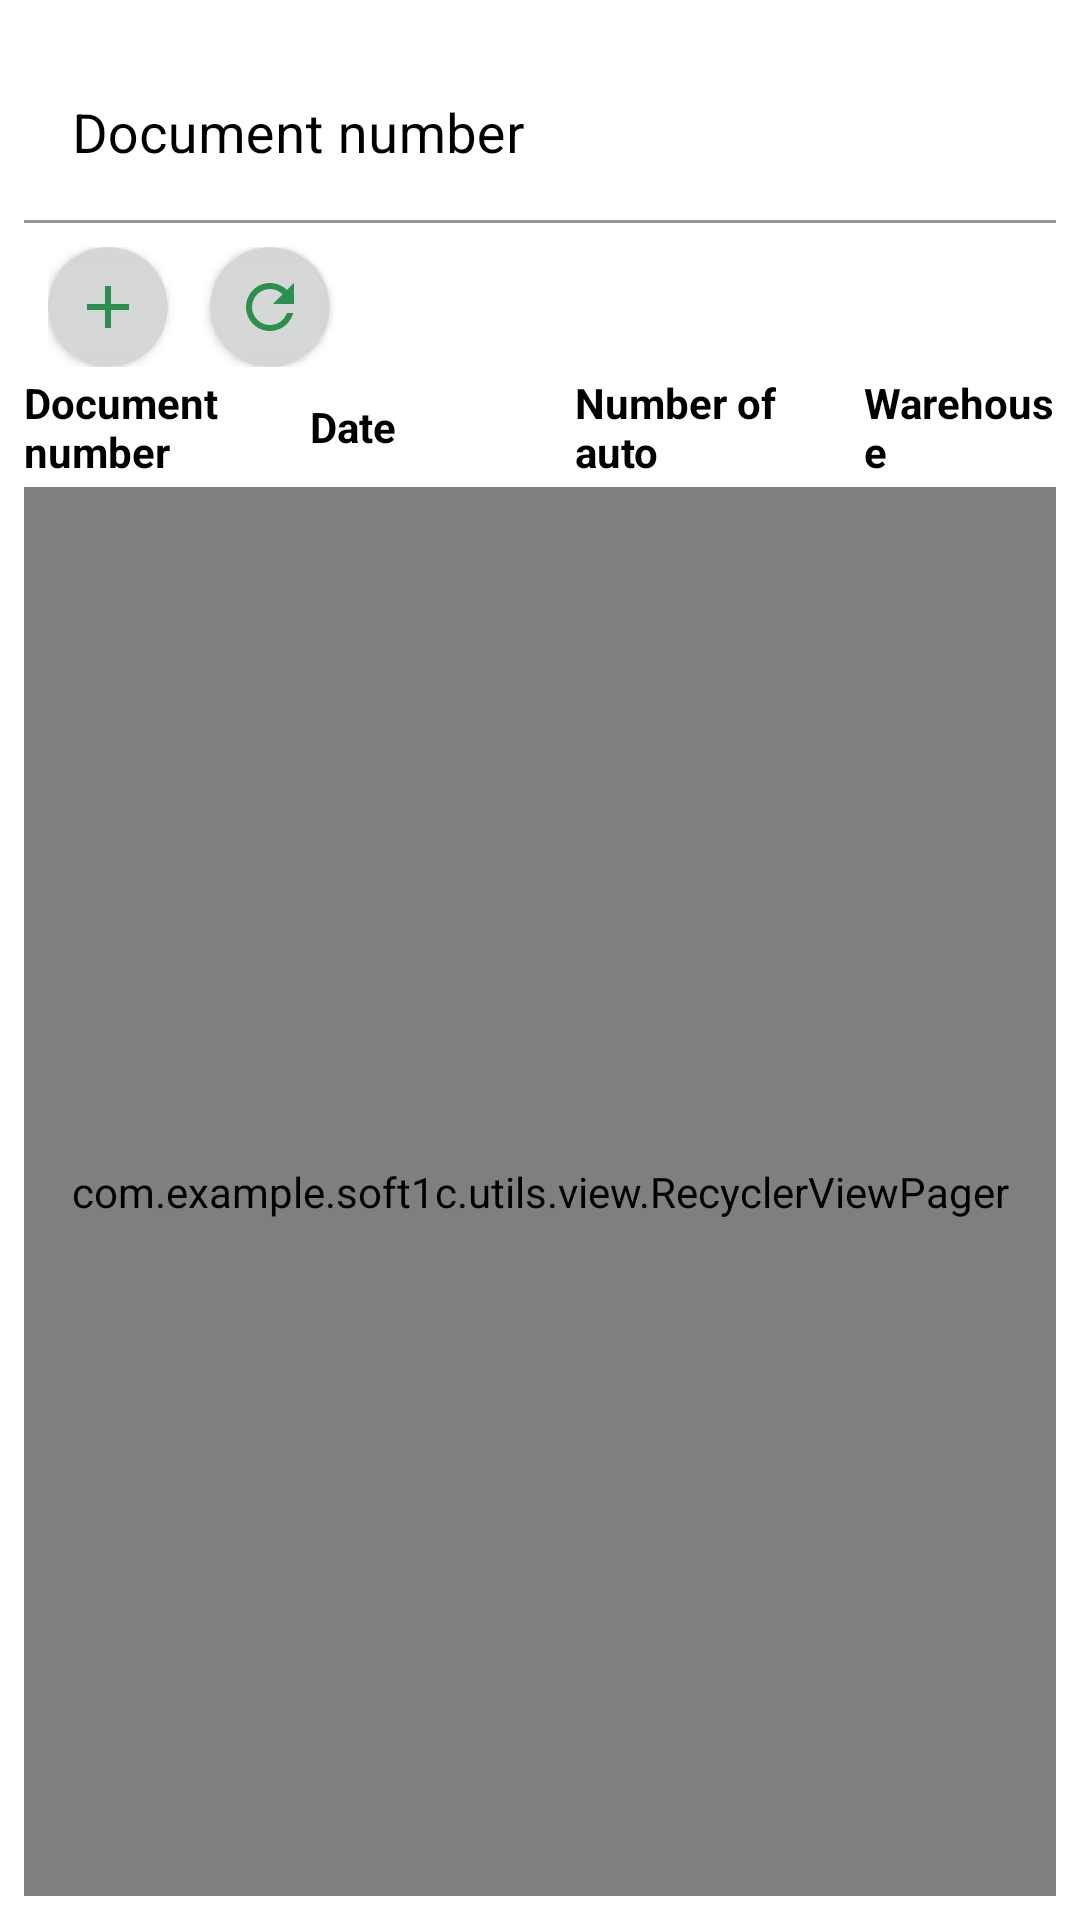

Icons on this 1080x1920 Android screen, each with the point to tap as (x=x, y=y):
add: (x=108, y=307)
refresh: (x=270, y=307)
